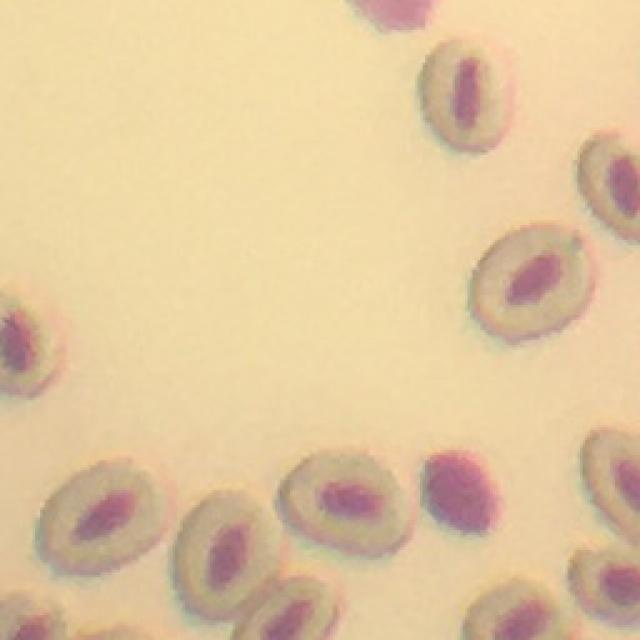RBC: (38, 460, 162, 574), (472, 225, 592, 341), (174, 490, 280, 619), (279, 452, 409, 556), (419, 40, 511, 151), (0, 279, 65, 397), (582, 429, 640, 544), (579, 139, 640, 241), (234, 579, 336, 640), (461, 580, 561, 640), (569, 546, 640, 628)
WBC: (424, 451, 499, 532), (352, 0, 432, 30)
